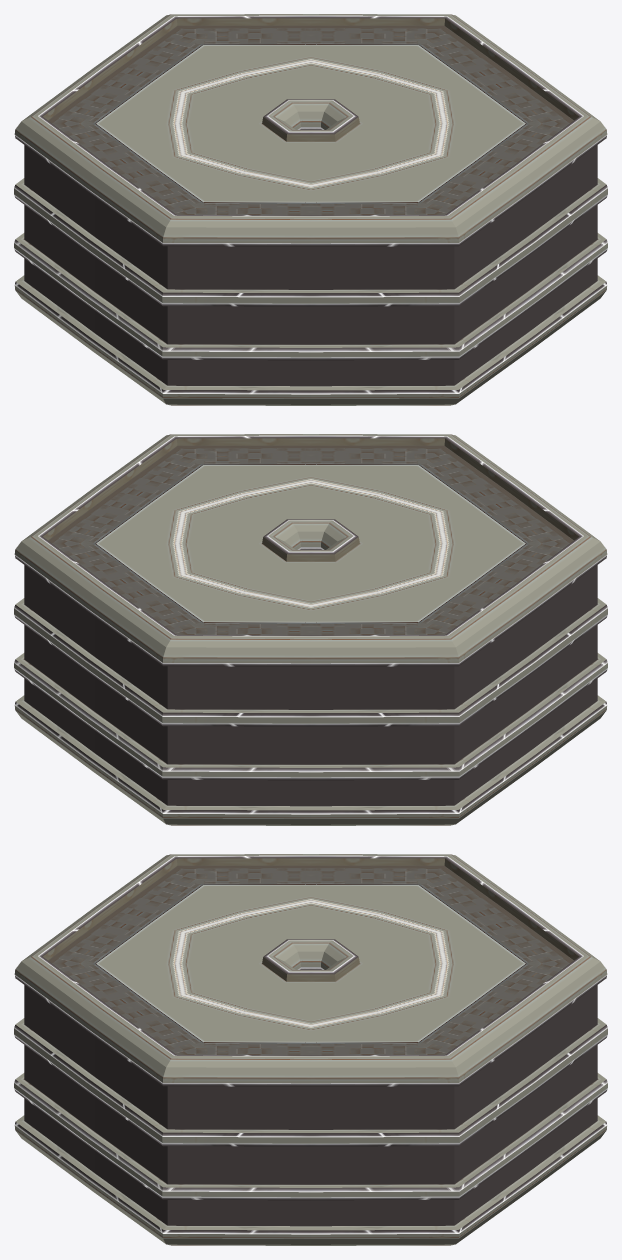
Rendered from KF_SM_XBuilding013.fbx.
The picture shows the model from 3 angles, top to bottom: view 1: azimuth 30°, elevation 25°; view 2: azimuth 150°, elevation 25°; view 3: azimuth 270°, elevation 25°; orthographic projection.
Visible parts, largest first — view 1: KF_SM_XBuilding013; view 2: KF_SM_XBuilding013; view 3: KF_SM_XBuilding013.
Part boxes in pixels (left/top/right/bottom): KF_SM_XBuilding013: left=14, top=14, right=607, bottom=405; KF_SM_XBuilding013: left=14, top=434, right=607, bottom=825; KF_SM_XBuilding013: left=14, top=854, right=607, bottom=1245.
Bounding box in the file's own units: 9559 × 3839 × 10989.
